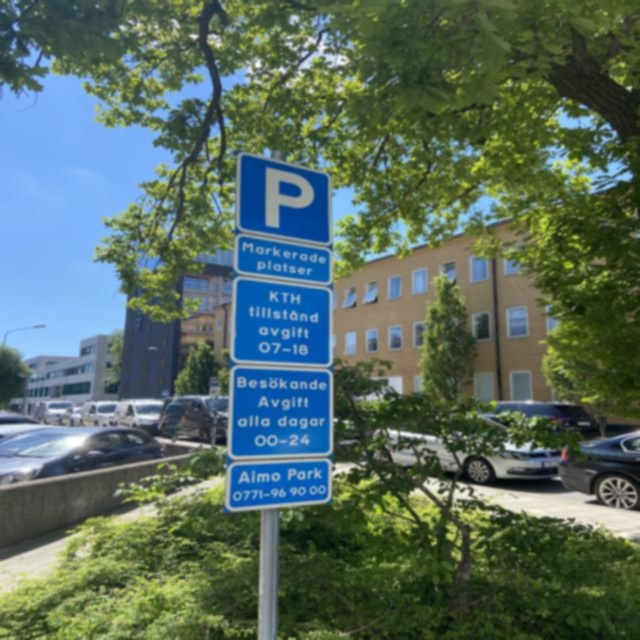P-skylt: (236, 150, 336, 247)
